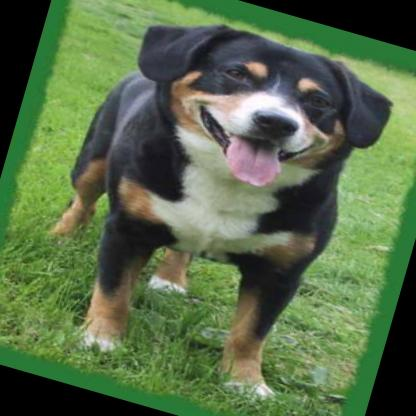EntleBucher: (19, 0, 401, 414)
